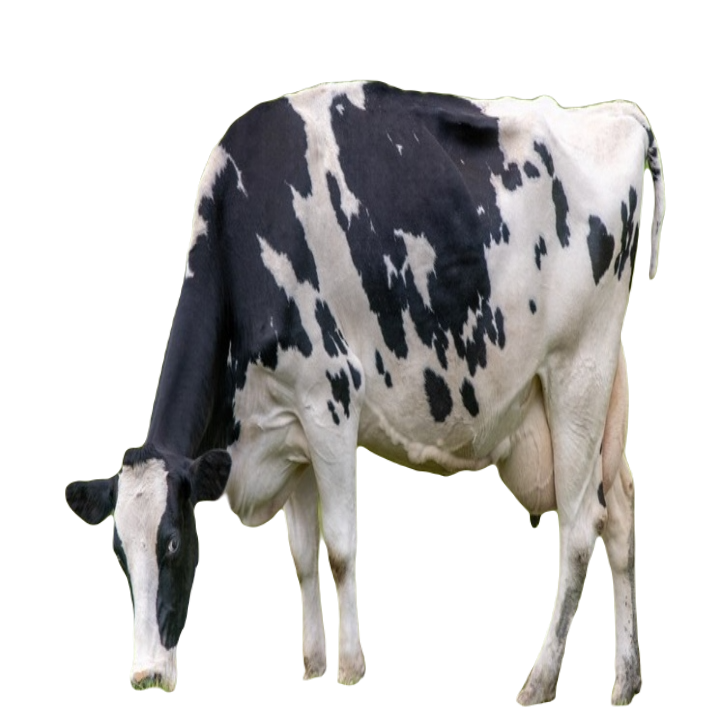Cow: (65, 79, 668, 702)
